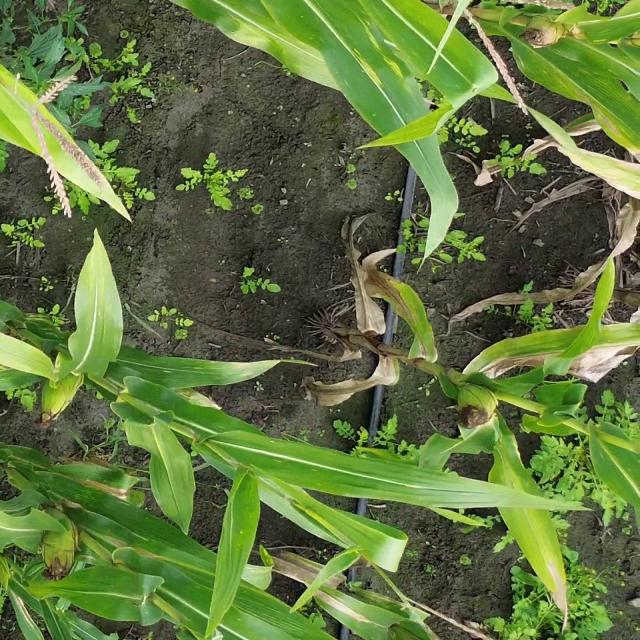northern-leaf-blight: (469, 309, 630, 382), (357, 254, 444, 364), (303, 578, 399, 638)
southern-leaf-blight: (16, 445, 156, 538), (320, 32, 424, 132), (516, 46, 640, 124), (141, 344, 281, 389)
